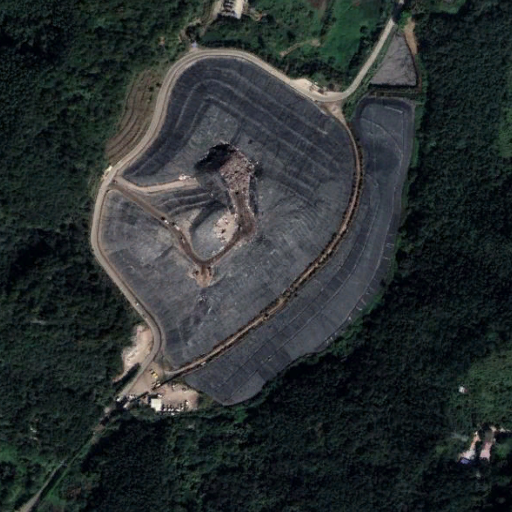lf: (94, 54, 412, 406)
